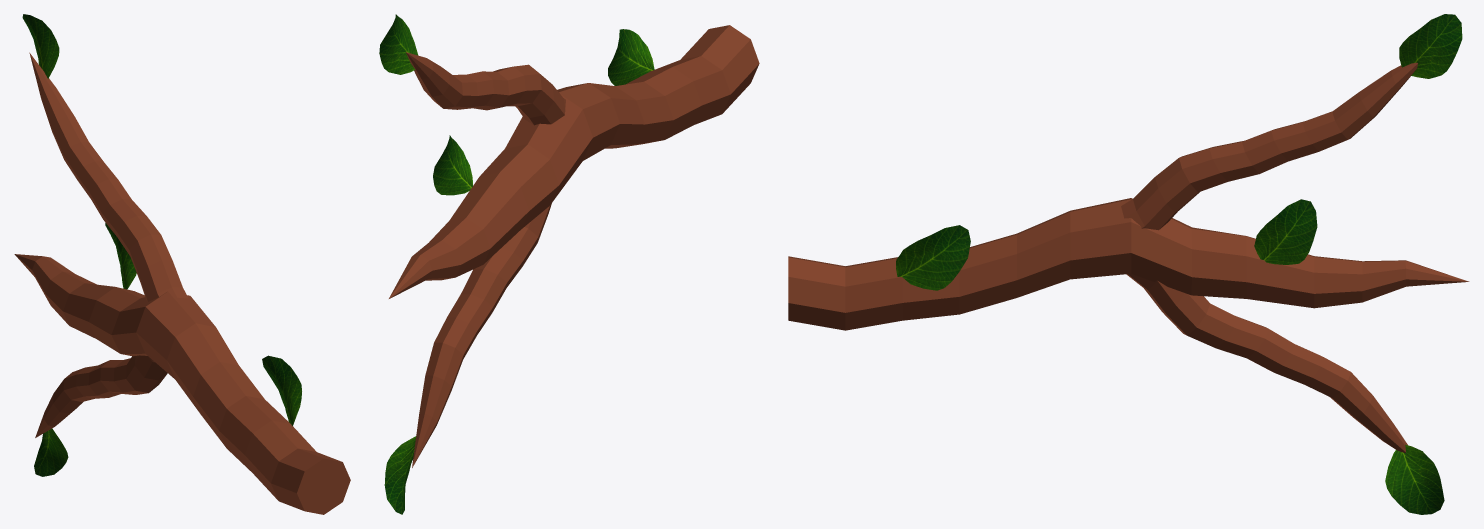
File: branch_6.fbx
3 renders of one model, left to right at view 1: azimuth 30°, elevation 25°; view 2: azimuth 150°, elevation 25°; view 3: azimuth 270°, elevation 25°, orthographic. The views are drawn at different scales.
Parts seen in each view (by area): view 1: Cylinder, Cylinder.001, Cylinder.002, Plane.002, Plane, Plane.003, Plane.001; view 2: Cylinder, Cylinder.002, Cylinder.001, Plane.002, Plane.001, Plane, Plane.003; view 3: Cylinder, Cylinder.001, Cylinder.002, Plane.002, Plane.003, Plane.001, Plane.
Boxes of the visible parts, x1,y1,x2,y2 form: Cylinder: (14, 254, 350, 514); Cylinder.001: (29, 52, 188, 301); Cylinder.002: (35, 355, 167, 437); Plane.002: (262, 355, 301, 425); Plane: (22, 14, 59, 78); Plane.003: (34, 428, 68, 476); Plane.001: (105, 223, 136, 289); Cylinder: (389, 25, 759, 298); Cylinder.002: (412, 203, 551, 467); Cylinder.001: (406, 52, 565, 125); Plane.002: (608, 29, 654, 85); Plane.001: (433, 135, 472, 195); Plane: (379, 14, 418, 74); Plane.003: (384, 436, 416, 514); Cylinder: (788, 198, 1469, 330); Cylinder.001: (1121, 62, 1417, 230); Cylinder.002: (1126, 274, 1407, 452); Plane.002: (896, 225, 970, 290); Plane.003: (1385, 444, 1444, 514); Plane.001: (1254, 199, 1317, 264); Plane: (1399, 14, 1462, 78).
Size of the model in its own units: 24.06 by 161 by 199.
